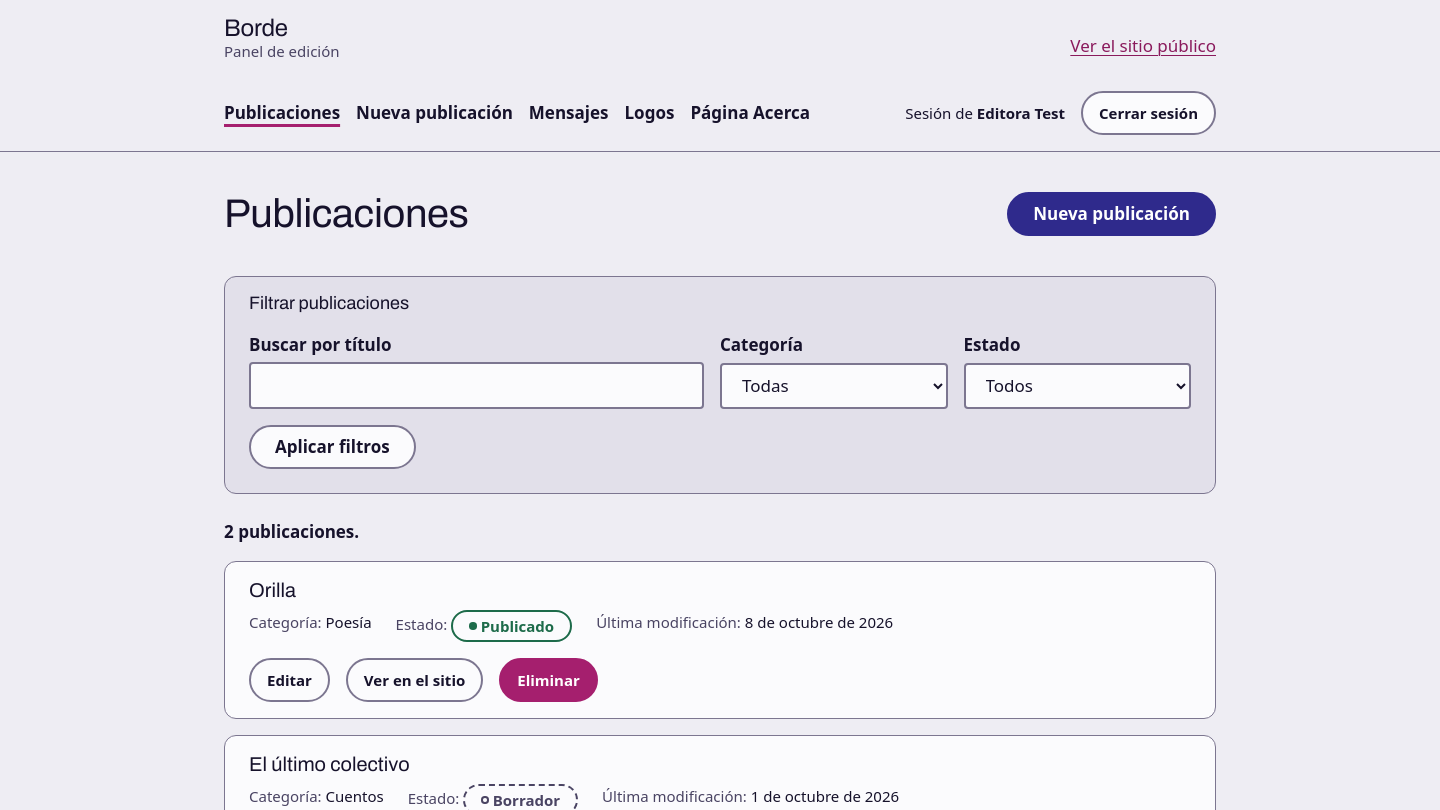
Test: Listado del panel › confirmar elimina, anuncia el resultado y lleva el foco al título
Expected: the heading "Publicaciones" is shown, [224,192,468,236]
Click the button named "Eliminar «Orilla»".
click(549, 680)  # box [499,658,598,702]
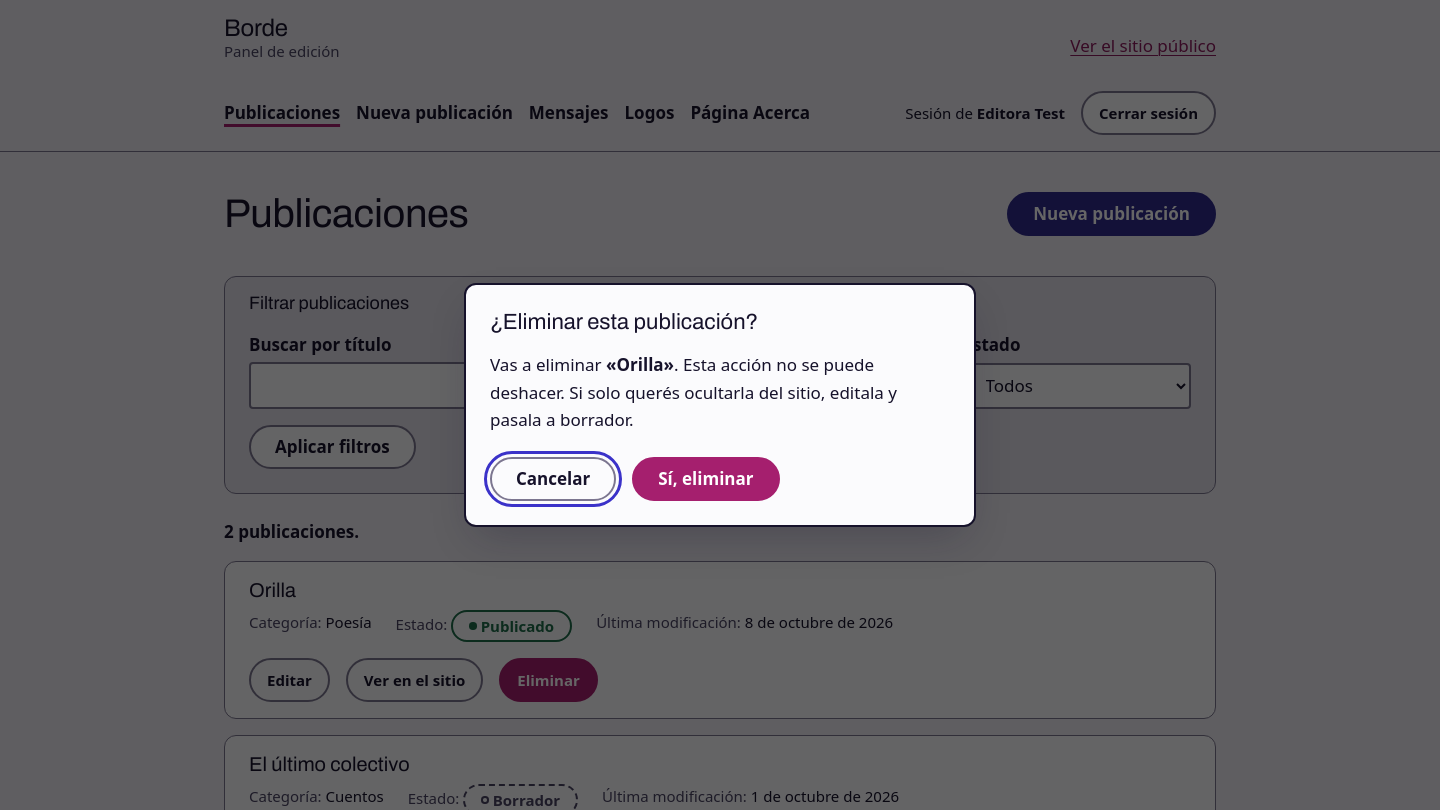
Click the button "Sí, eliminar".
click(706, 479)  # box [632,457,780,501]
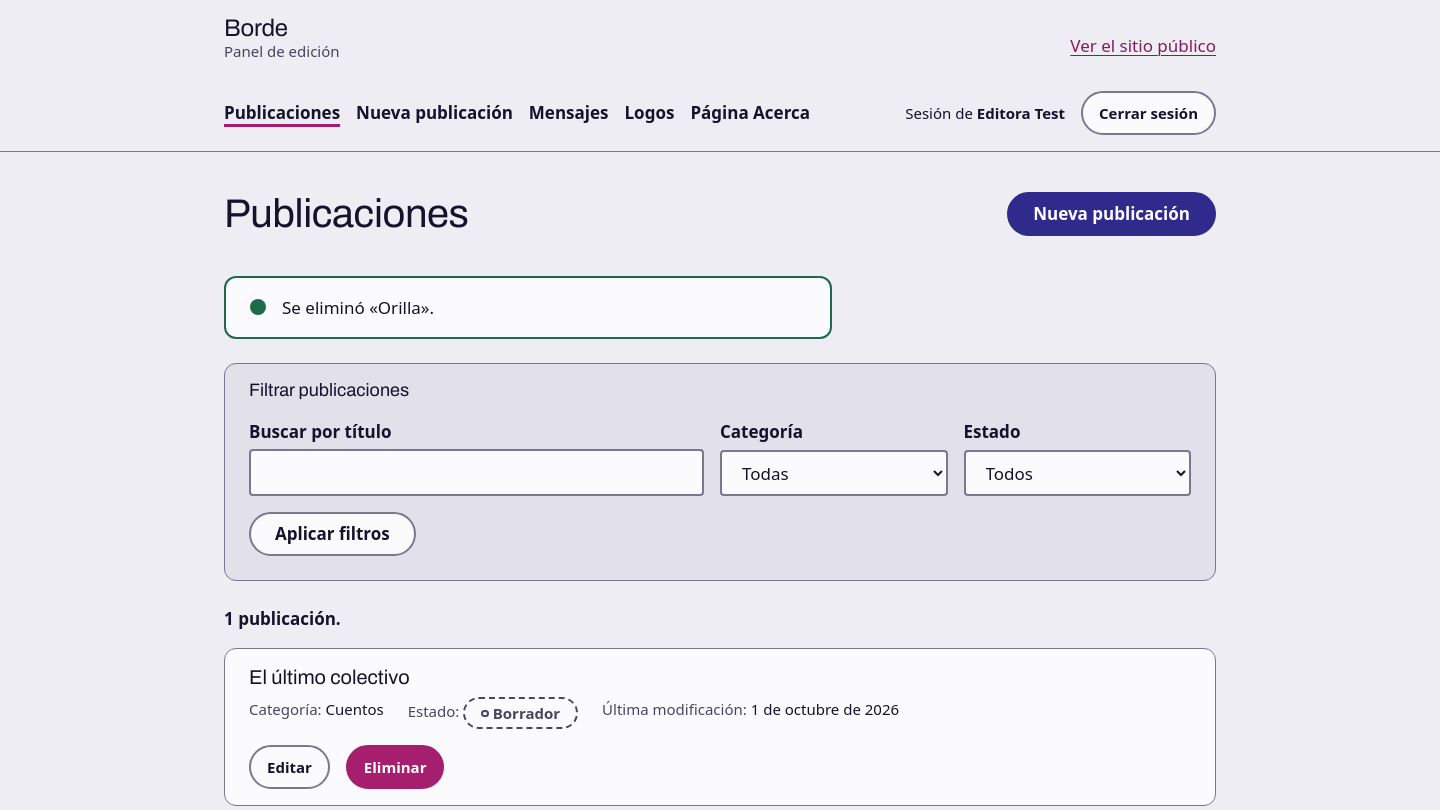
Now the text "Se eliminó «Orilla»." is shown, box [224,276,832,339]
Now the button "eliminar «Orilla»" is gone
